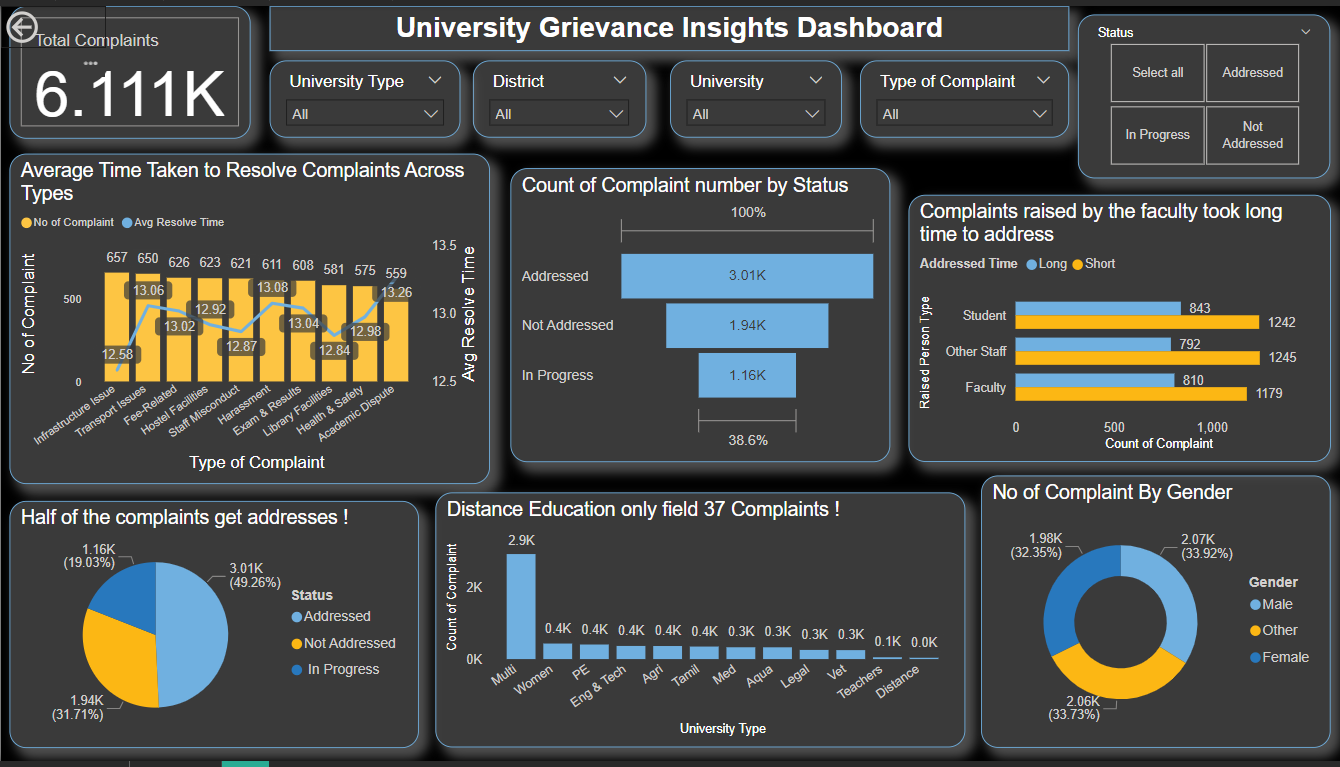

This screenshot's page, from the dashboard's own definition file:
{"tool":"powerbi","page":{"name":"Page 1","canvas":[1280,720],"ordinal":0},"visuals":[{"type":"textbox","box":[256,0,762.1,42.7],"z":0},{"type":"cardVisual","fields":{"Data":["CountNonNull(grievance.Complaint number)"]},"box":[8.2,0,230.1,126.1],"z":1000},{"type":"actionButton","box":[0,0,100,40],"z":2000},{"type":"lineClusteredColumnComboChart","title":"Average Time Taken to Resolve Complaints Across Types","fields":{"Category":["grievance.Type of Complaint"],"Y":["CountNonNull(grievance.Complaint number)"],"Y2":["grievance.Average Resolution Time"]},"box":[8.1,140.7,457.7,314.8],"z":3000},{"type":"lineStackedColumnComboChart","title":"Distance Education only field 37 Complaints !","fields":{"Y":["CountNonNull(grievance.Complaint number)"],"Category":["grievance.University Type Short"]},"box":[413.9,463.5,505,243.3],"z":4000},{"type":"pieChart","title":"Half of the complaints get addresses !","fields":{"Y":["CountNonNull(grievance.Complaint number)"],"Category":["grievance.Status"]},"box":[8.1,471.6,389.7,235.2],"z":5000},{"type":"slicer","fields":{"Values":["grievance.District"]},"box":[449.7,51.9,164.9,73.8],"z":6000},{"type":"slicer","fields":{"Values":["grievance.Type of Complaint"]},"box":[818.6,51.9,199.5,73.8],"z":7000},{"type":"slicer","fields":{"Values":["grievance.Status"]},"box":[1026.6,8.2,240.6,156.5],"z":8000},{"type":"slicer","fields":{"Values":["grievance.University"]},"box":[637.6,51.9,163.7,73.8],"z":9000},{"type":"donutChart","title":"No of Complaint By Gender","fields":{"Category":["grievance.Gender"],"Y":["CountNonNull(grievance.Complaint number)"]},"box":[933.9,447.4,333.2,259.4],"z":10000},{"type":"clusteredBarChart","title":"Complaints raised by the faculty took long time to address","fields":{"Category":["grievance.Raised Person Type"],"Y":["CountNonNull(grievance.Complaint number)"],"Series":["grievance.Long Complaints"]},"box":[864.7,179.9,402.4,254.8],"z":11000},{"type":"funnel","fields":{"Category":["grievance.Status"],"Y":["CountNonNull(grievance.Complaint number)"]},"box":[485.4,154.5,362,280.2],"z":12000},{"type":"slicer","fields":{"Values":["grievance.University Type"]},"box":[255.8,51.4,182.2,73.6],"z":13000}]}

Visuals, with their boxes in screenshot pixels (x1, y1, x2, y2), scaled from the page's 1280x720 canvas onto the 1340x767 screenshot:
textbox: [268, 0, 1066, 45]
cardVisual - CountNonNull(grievance.Complaint number): [9, 0, 249, 134]
actionButton: [0, 0, 105, 43]
"Average Time Taken to Resolve Complaints Across Types" lineClusteredColumnComboChart: [8, 150, 488, 485]
"Distance Education only field 37 Complaints !" lineStackedColumnComboChart: [433, 494, 962, 753]
"Half of the complaints get addresses !" pieChart: [8, 502, 416, 753]
slicer - grievance.District: [471, 55, 643, 134]
slicer - grievance.Type of Complaint: [857, 55, 1066, 134]
slicer - grievance.Status: [1075, 9, 1327, 175]
slicer - grievance.University: [667, 55, 839, 134]
"No of Complaint By Gender" donutChart: [978, 477, 1326, 753]
"Complaints raised by the faculty took long time to address" clusteredBarChart: [905, 192, 1326, 463]
funnel - grievance.Status x CountNonNull(grievance.Complaint number): [508, 165, 887, 463]
slicer - grievance.University Type: [268, 55, 459, 133]
